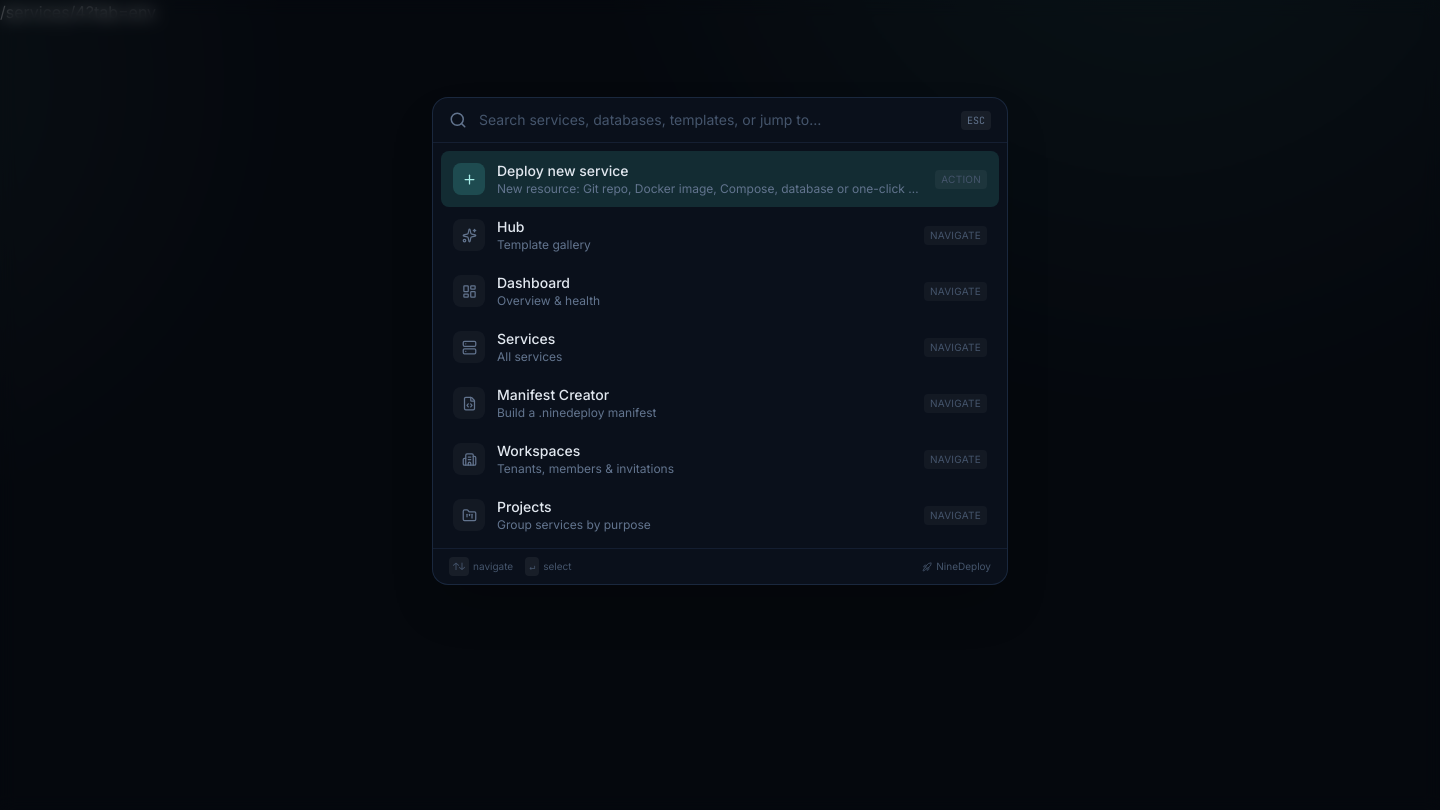
Test: CommandPalette › a quick action opens the wizard pre-set over the current page, keeping its query
Check: the text "Hub" is shown, box [497,218,524,235]
In the dropdown with placeholder "Search services, databases, templates, or jump to…": (714, 120) [479,110,949,130], type "docker image"
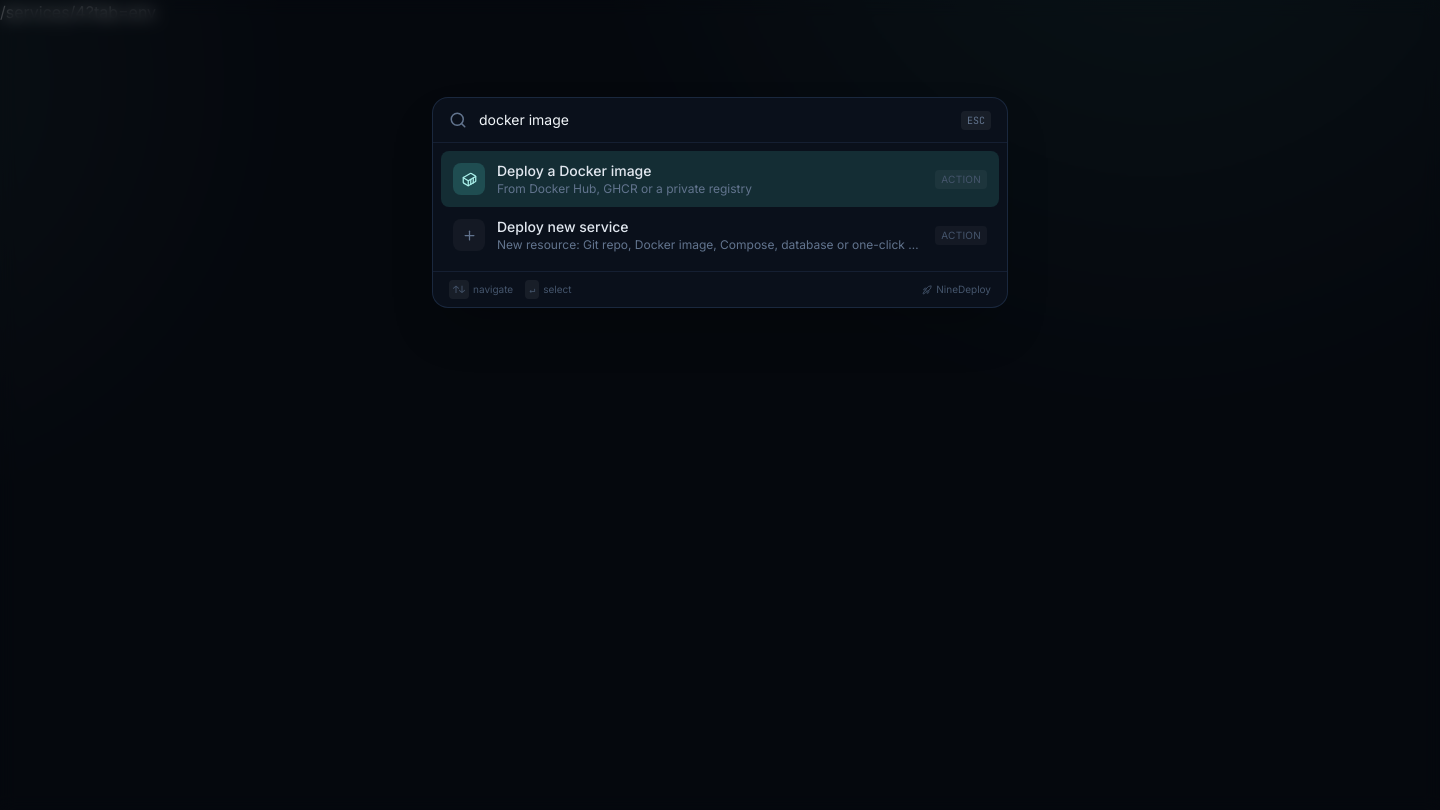
Click the text "Deploy a Docker image": click(574, 171) [497,162,652,179]
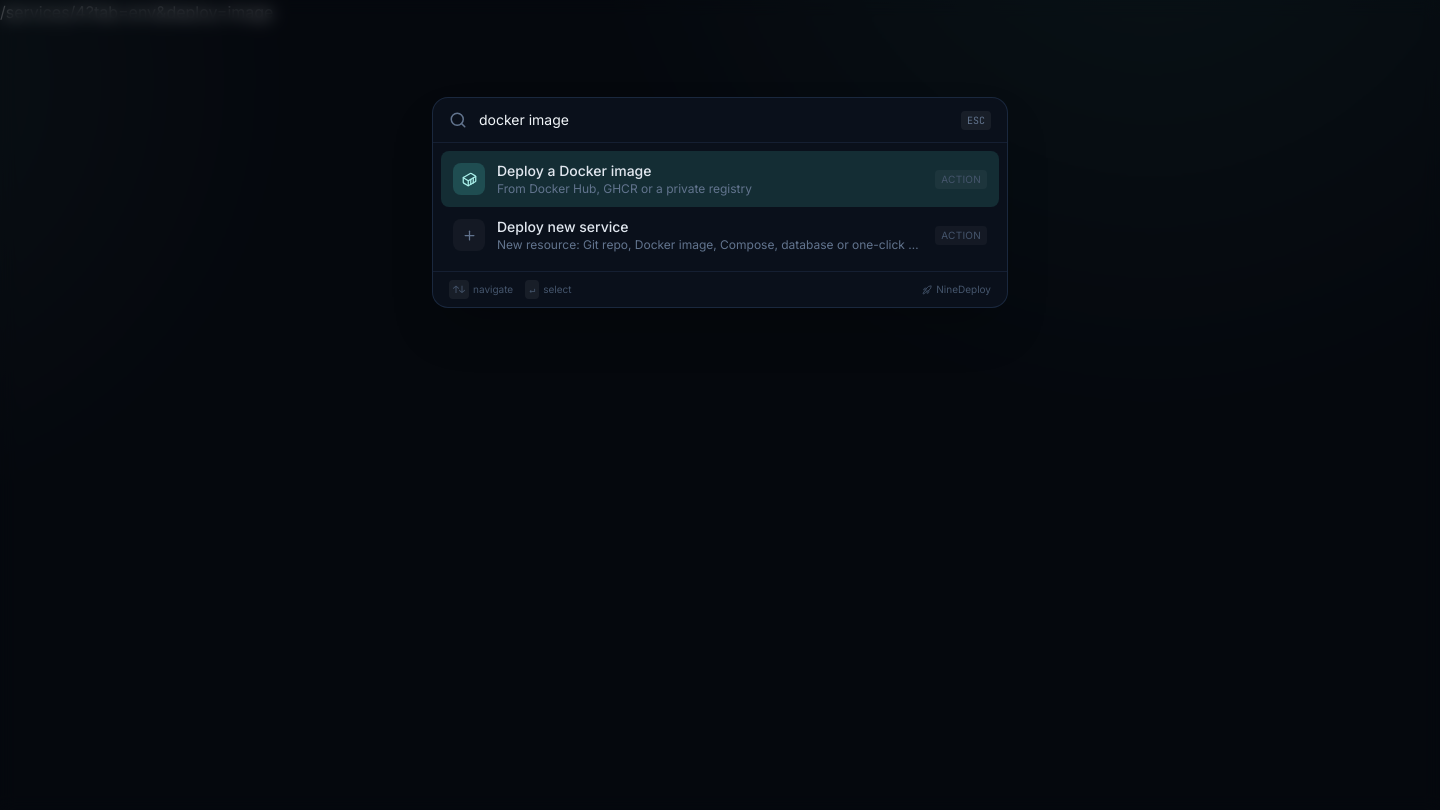
Check: the text with test id "location" reads "/services/4?tab=env&deploy=image", box [0,2,274,22]
Replace the text in the dropdown with placeholder "Search services, databases, templates, or jump to…" with "create": (714, 120) [479,110,949,130]
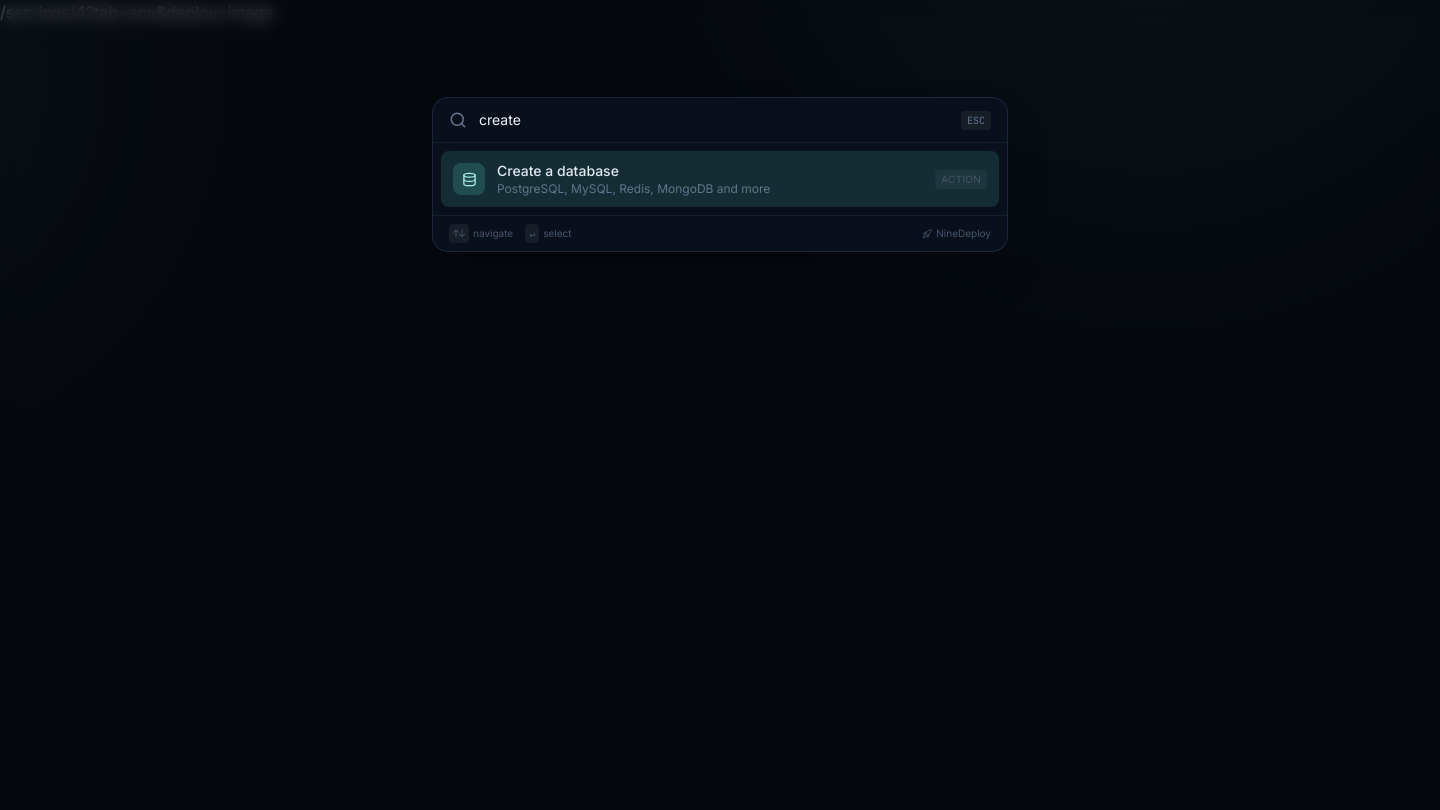
Check: the option shows "Create a database", box [441,151,999,207]
